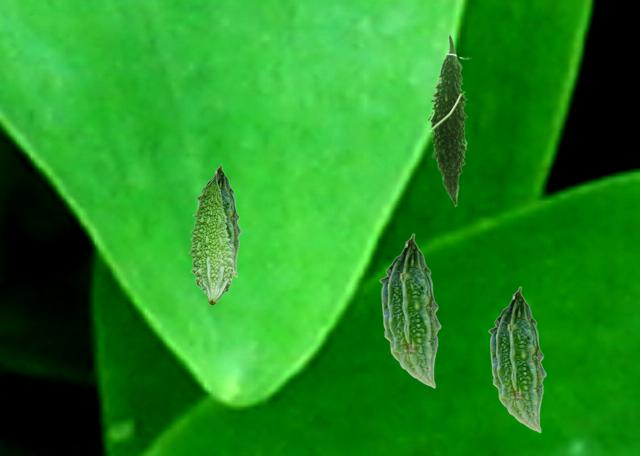ampalaya: (379, 233, 441, 389), (487, 286, 547, 433), (427, 33, 472, 207), (187, 172, 236, 305), (196, 163, 242, 277)
